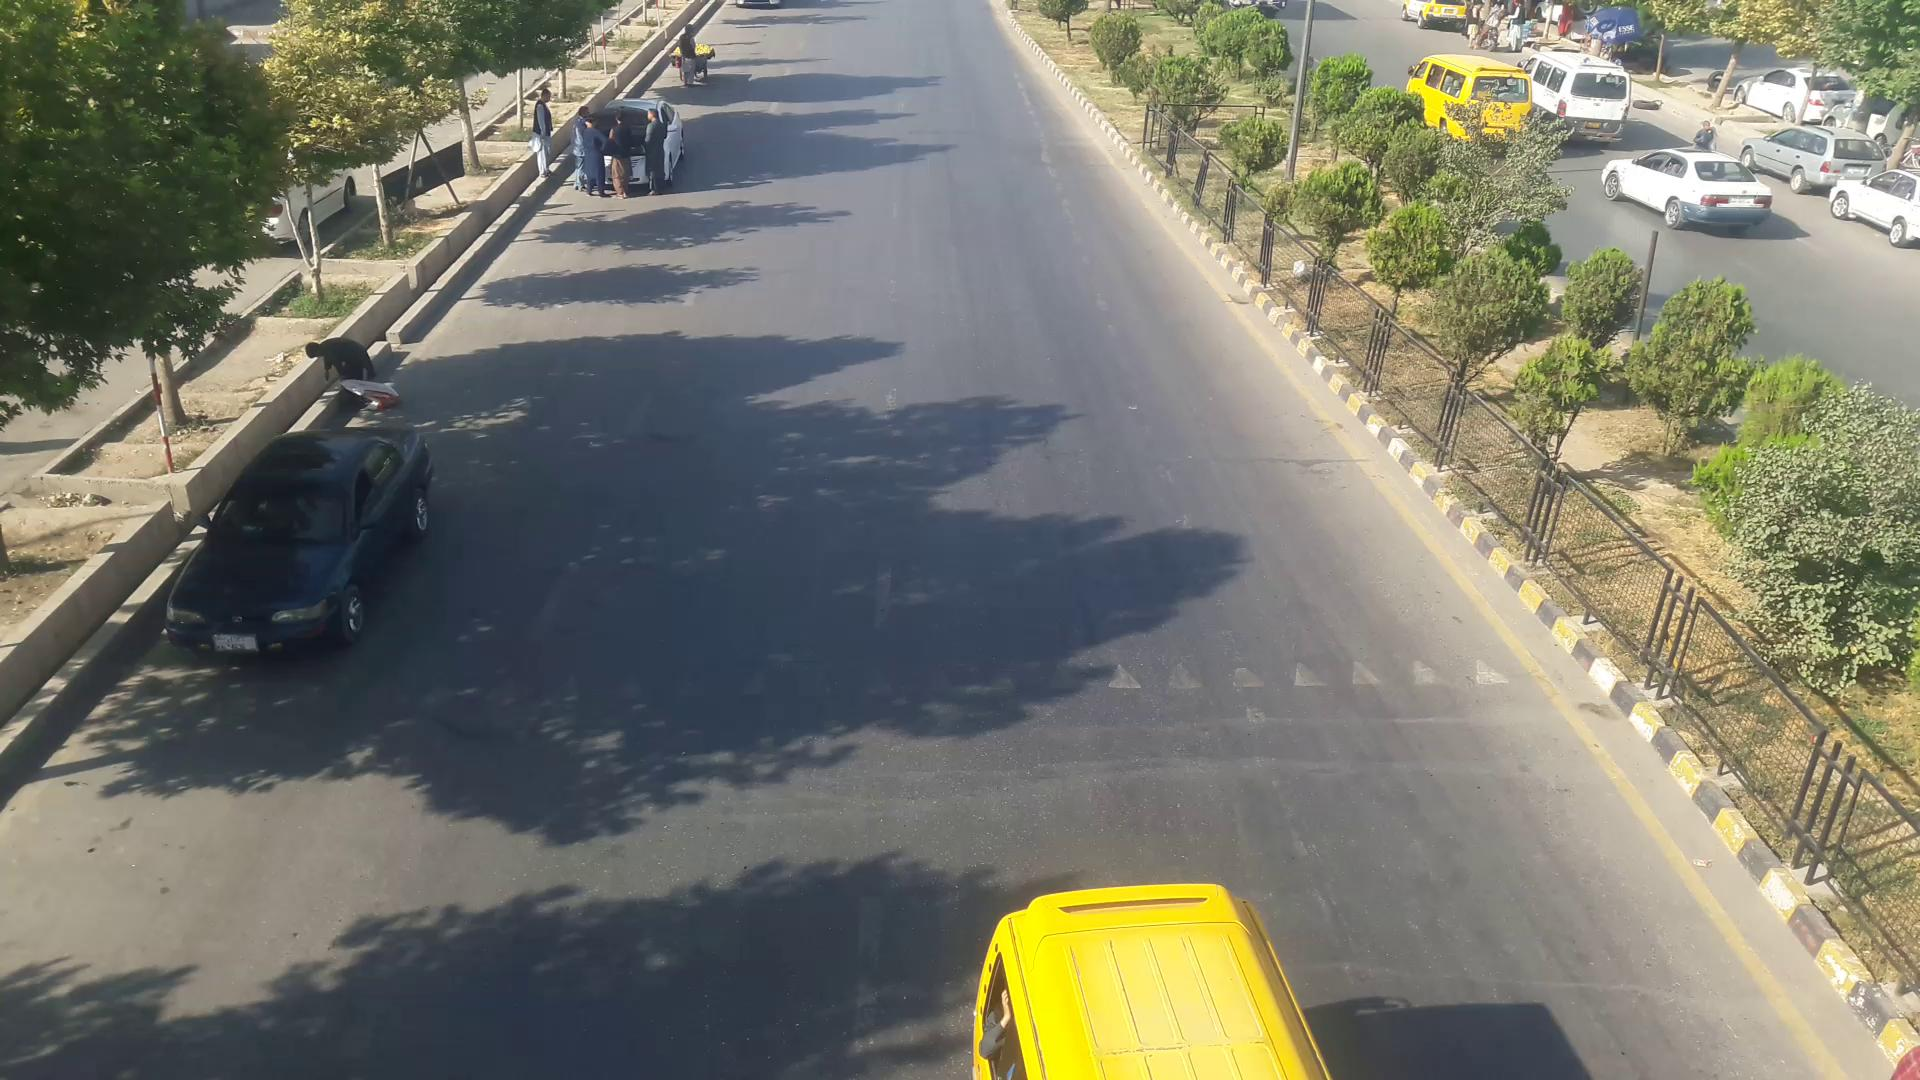bus: (984, 880, 1333, 1080), (1528, 53, 1634, 132)
car: (166, 443, 436, 646), (1601, 148, 1775, 223), (1731, 124, 1890, 198), (1828, 167, 1917, 249)
